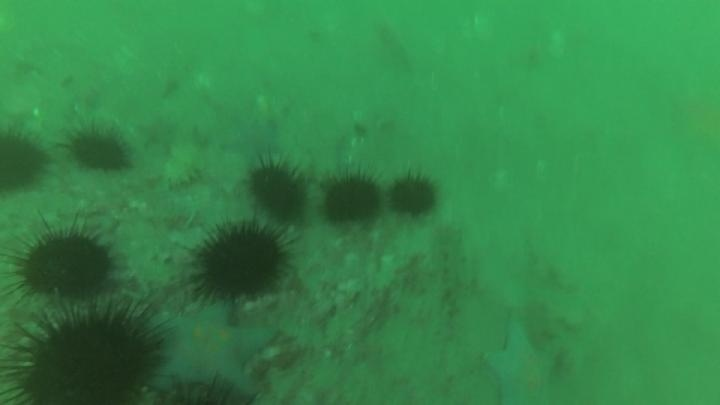echinus: (2, 299, 168, 404), (8, 219, 117, 304), (192, 222, 290, 303), (245, 156, 310, 223), (149, 369, 258, 404), (320, 170, 384, 227), (1, 125, 51, 195), (67, 123, 134, 175), (387, 169, 441, 220)
holothurian: (427, 224, 472, 339), (160, 138, 207, 191)
starfish: (149, 296, 278, 397), (481, 318, 564, 405), (221, 115, 283, 163)
